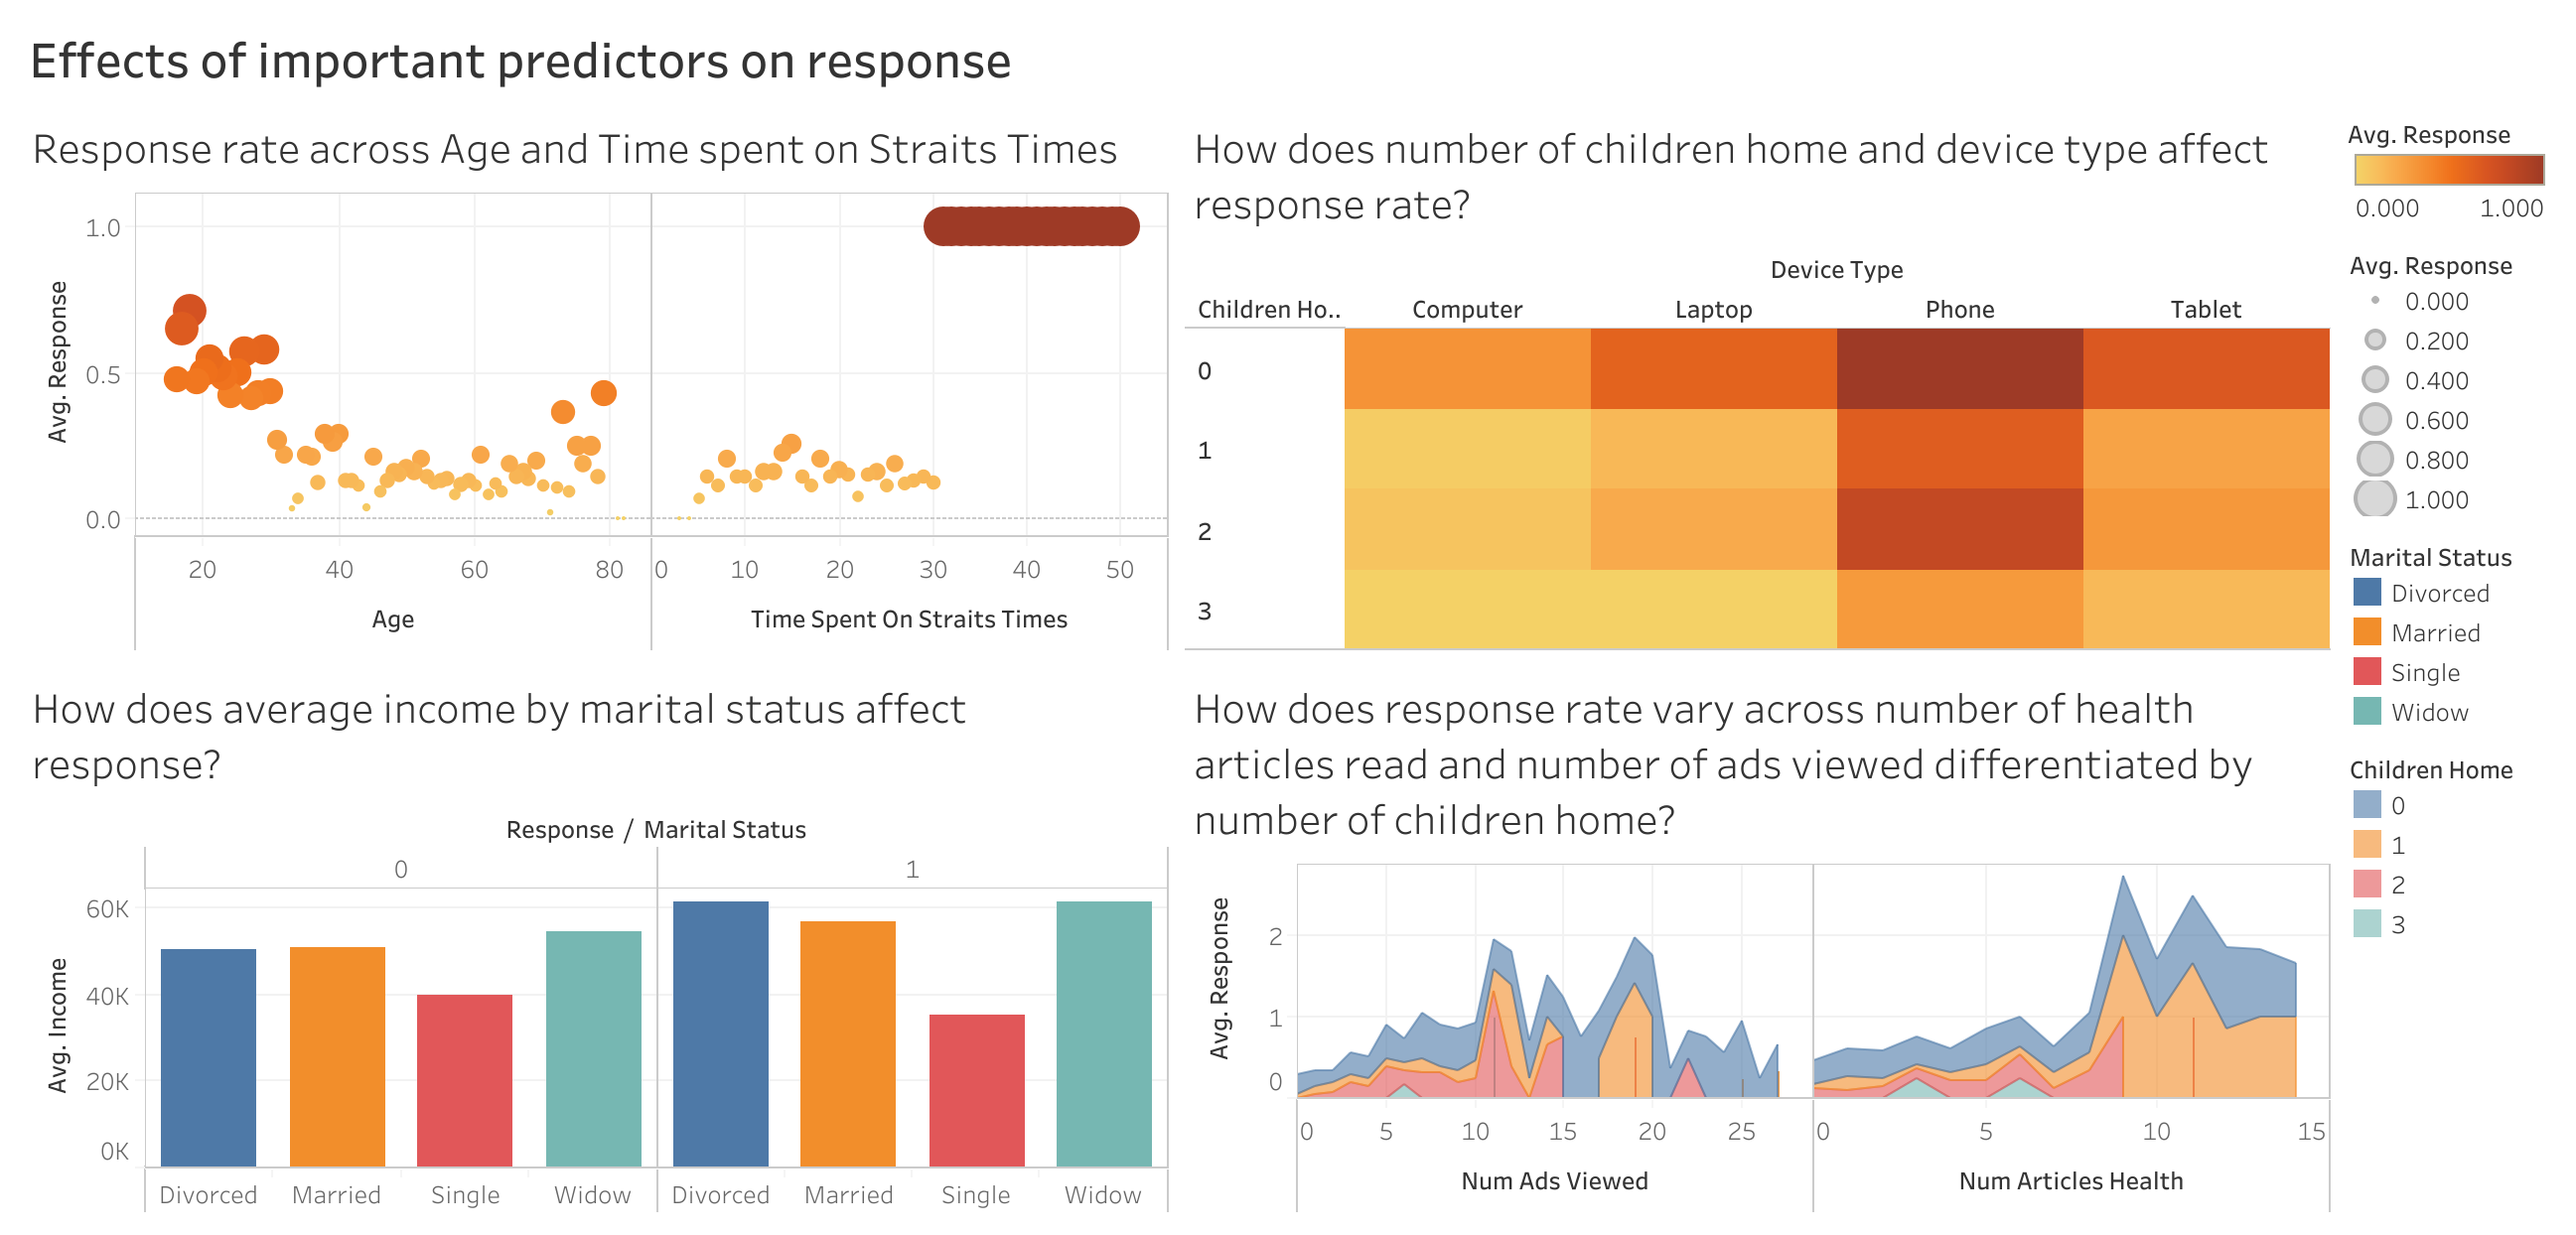

The page's visual inventory and layout, read from the dashboard file:
{"tool":"tableau","page":{"name":"Dashboard 2","canvas":[1000,1000],"units":"permille","ordinal":1},"visuals":[{"type":"title","box":[9.2,15.1,981.6,77.5]},{"type":"worksheet","title":"vis5","mark":"Circle","rows":["Response"],"cols":["Age","TimeSpentOnStraitsTimes"],"box":[9.2,92.6,426.3,446.1]},{"type":"worksheet","title":"vis6","mark":"Automatic","rows":["ChildrenHome"],"cols":["DeviceType"],"box":[435.5,92.6,426.4,446.1]},{"type":"legend","title":"vis5","param":"[federated.0pji3xu0897pjz1ff50b102v09yx].[avg:Response:qk]","box":[861.9,92.6,128.9,122.9]},{"type":"legend","title":"vis5","param":"[federated.0pji3xu0897pjz1ff50b102v09yx].[avg:Response:qk]","box":[861.9,215.5,128.9,276]},{"type":"legend","title":"vis7","param":"[federated.0pji3xu0897pjz1ff50b102v09yx].[none:MaritalStatus:nk]","box":[861.9,491.5,128.9,200.4]},{"type":"worksheet","title":"vis7","mark":"Automatic","rows":["Income"],"cols":["Response","MaritalStatus"],"box":[9.2,538.7,426.3,446.2]},{"type":"worksheet","title":"vis8","mark":"Area","rows":["Response"],"cols":["NumAdsViewed","NumArticlesHealth"],"box":[435.5,538.7,426.4,446.2]},{"type":"legend","title":"vis8","param":"[federated.0pji3xu0897pjz1ff50b102v09yx].[none:ChildrenHome:ok]","box":[861.9,691.9,128.9,200.4]}]}

Visuals, with their boxes on the dashboard's canvas, which has no fixed pixel size, in thousandths of its width and height (x1, y1, x2, y2). These are canvas units, not pixel positions in the 2576x1235 screenshot, which may show the page scaled, cropped or inside an application window:
title: [9, 15, 991, 93]
"vis5" worksheet (Circle marks): [9, 93, 436, 539]
"vis6" worksheet: [436, 93, 862, 539]
"vis5" legend: [862, 93, 991, 216]
"vis5" legend: [862, 216, 991, 492]
"vis7" legend: [862, 492, 991, 692]
"vis7" worksheet: [9, 539, 436, 985]
"vis8" worksheet (Area marks): [436, 539, 862, 985]
"vis8" legend: [862, 692, 991, 892]
